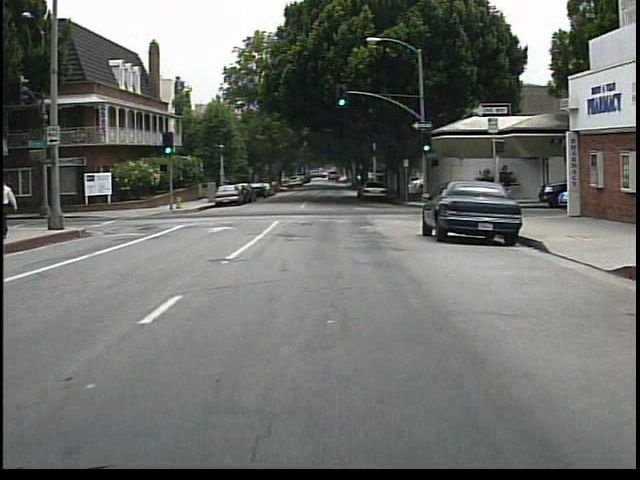person: (498, 170, 520, 208)
